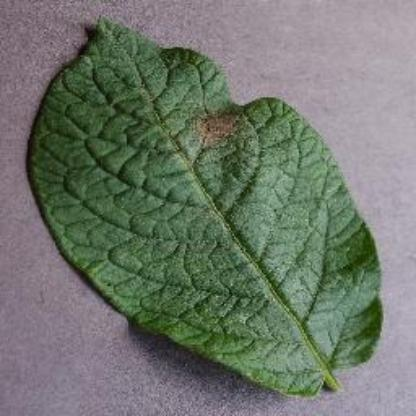Late-Blight: (25, 14, 391, 400)
